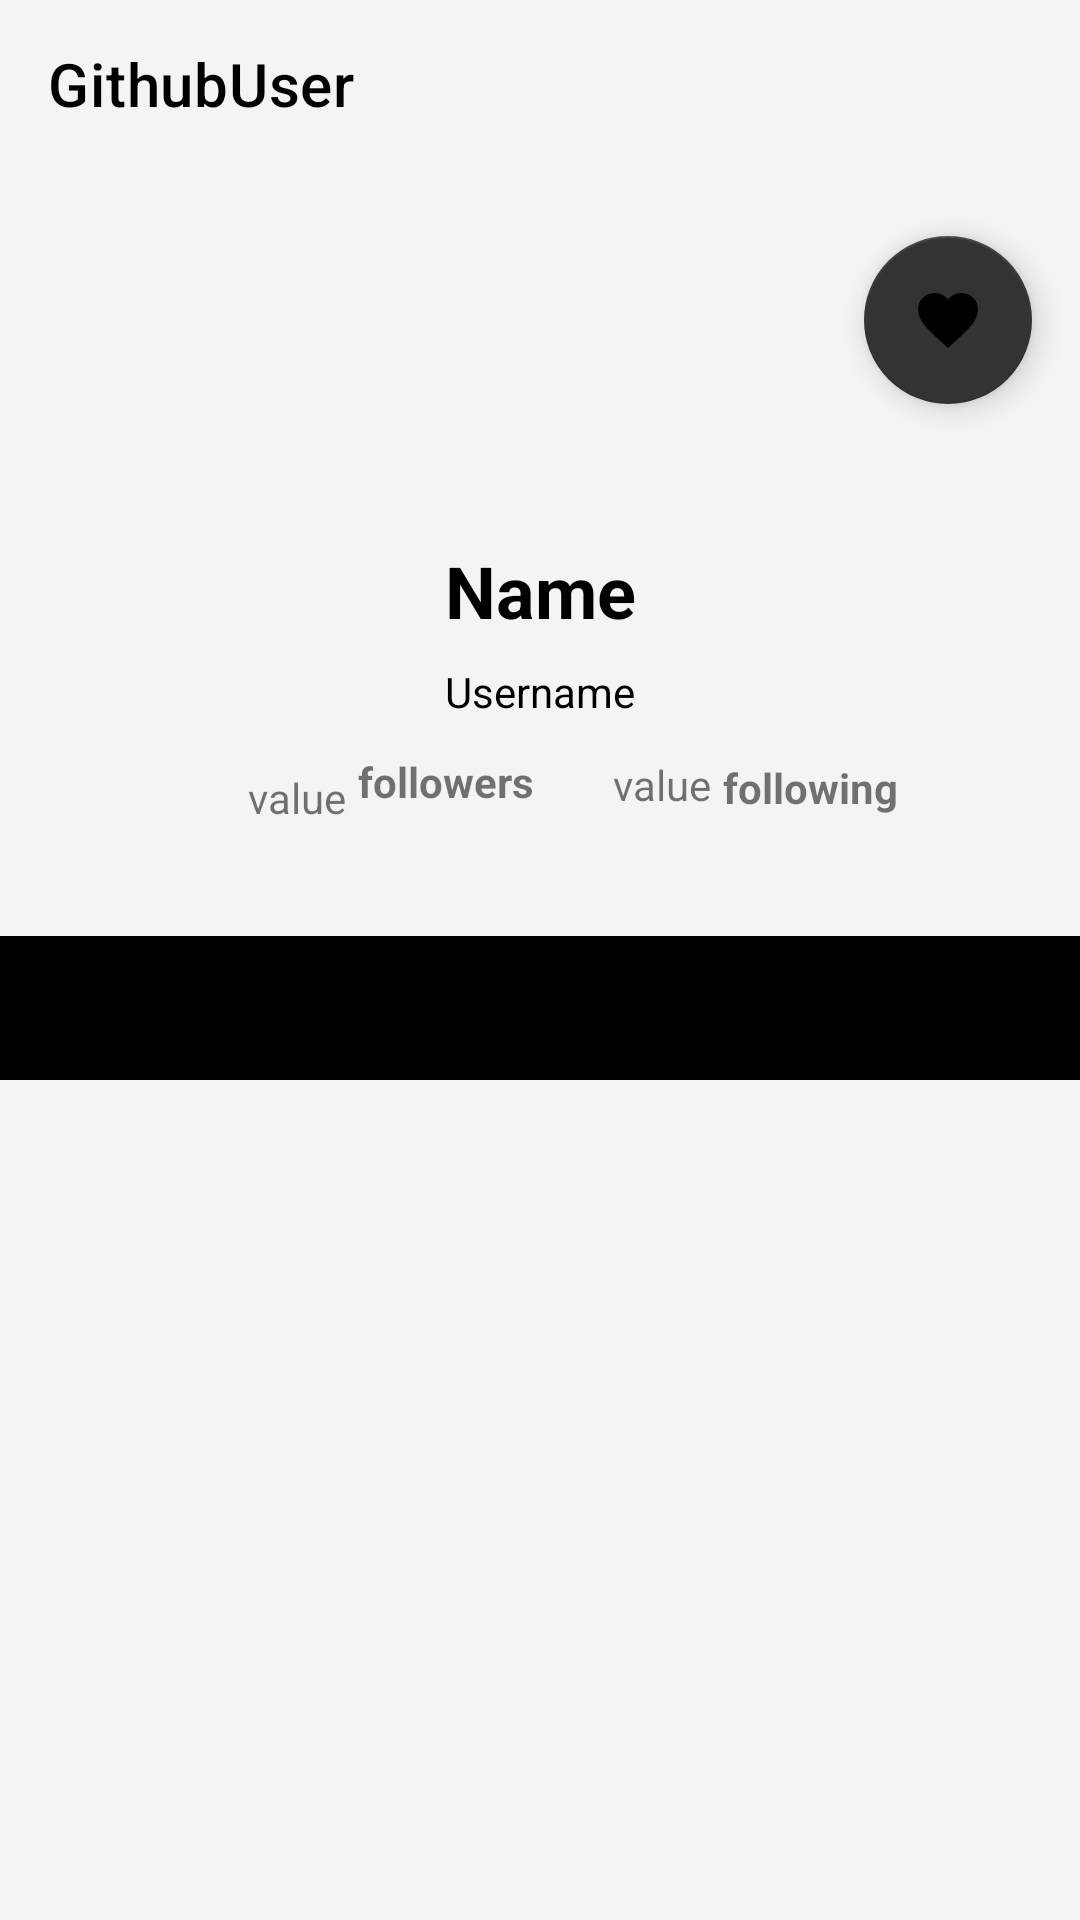

Locate icon controls on the screen. Image size 1080×1920, boxes as rect(x1, y1, x2, y2).
Favorite Button: rect(864, 236, 1032, 404)
